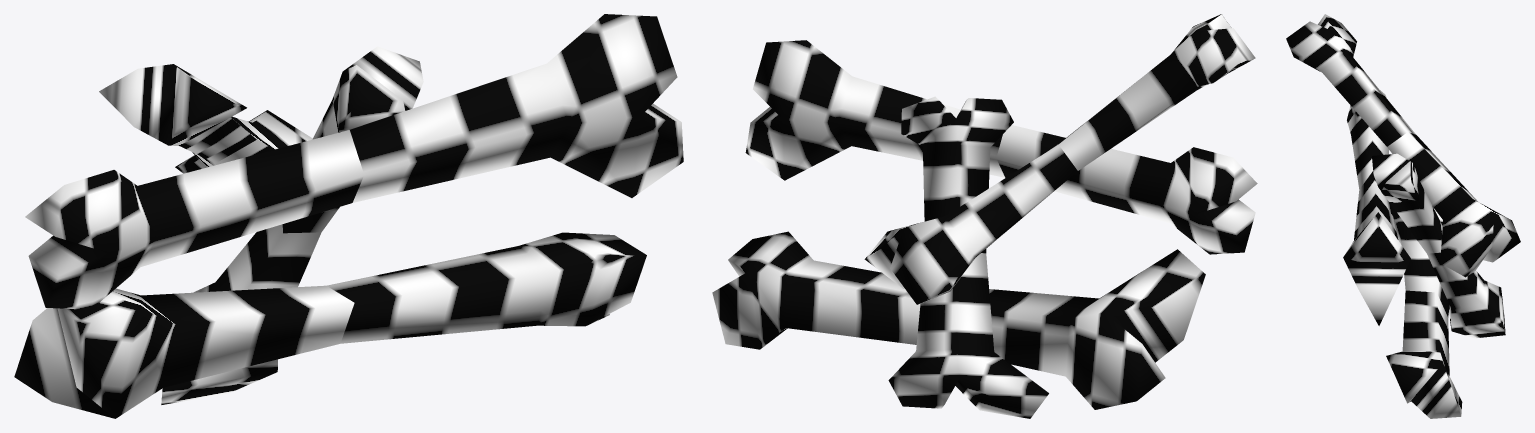
File: initlimt16.dae
3 renders of one model, left to right at view 1: azimuth 30°, elevation 25°; view 2: azimuth 150°, elevation 25°; view 3: azimuth 270°, elevation 25°, orthographic. The views are drawn at different scales.
Visible parts, largest first — view 1: item; view 2: item; view 3: item.
Part boxes in pixels (x1,y1,x2,y2): item: (14, 14, 683, 418); item: (712, 14, 1257, 418); item: (1286, 14, 1520, 418).
Bounding box in the file's own units: 1.52 × 0.8546 × 1.04.
1 material, 1 textured.
